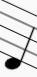note: (3, 1, 36, 72)
